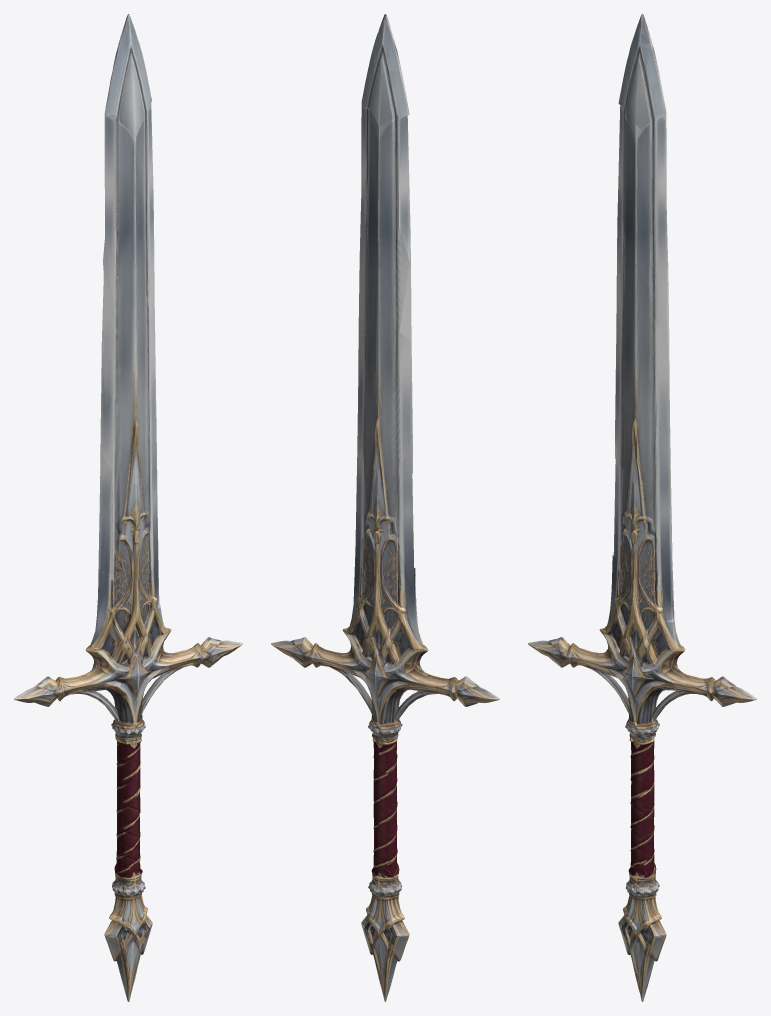
File: GRS068_Remesh_10k.fbx
The picture shows the model from 3 angles, left to right: view 1: azimuth 30°, elevation 25°; view 2: azimuth 150°, elevation 25°; view 3: azimuth 330°, elevation 25°; orthographic projection.
Parts seen in each view (by area): view 1: output_unwrapped; view 2: output_unwrapped; view 3: output_unwrapped.
Boxes of the visible parts, bbox=[...] form: output_unwrapped: bbox=[14, 14, 242, 1001]; output_unwrapped: bbox=[271, 14, 499, 1001]; output_unwrapped: bbox=[528, 14, 756, 1001].
Bounding box in the file's own units: 46.39 × 192 × 7.31.
1 material, 1 textured.
